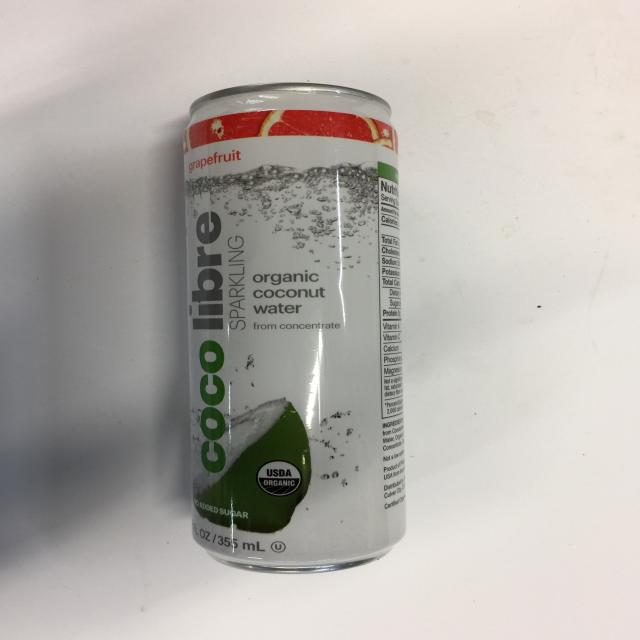metal: (182, 81, 407, 574)
